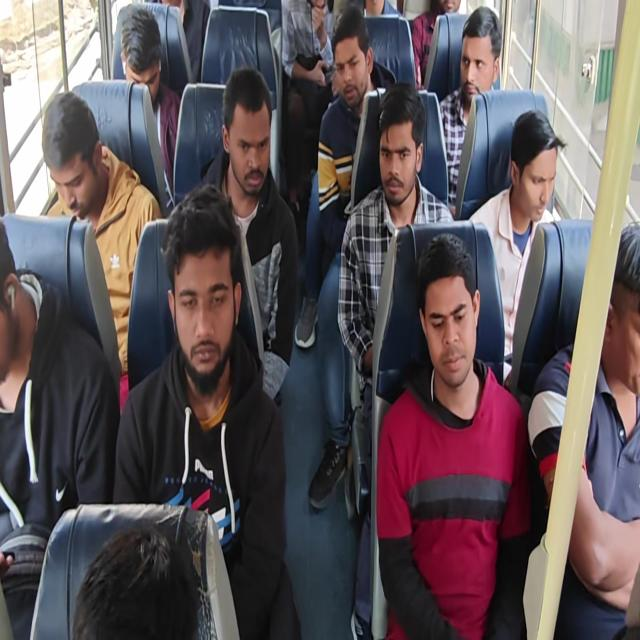person: (68, 521, 218, 640), (154, 191, 243, 376), (36, 94, 124, 214), (586, 223, 640, 406), (503, 108, 577, 239), (213, 77, 281, 213), (416, 250, 484, 385), (0, 206, 42, 388), (112, 3, 166, 109), (379, 94, 425, 208), (462, 28, 498, 106), (331, 28, 367, 96), (428, 0, 473, 25)
